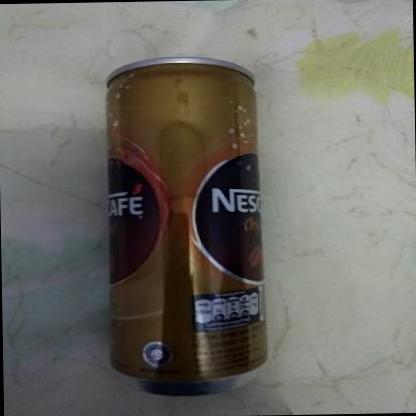alumunium_can: (102, 54, 274, 400)
